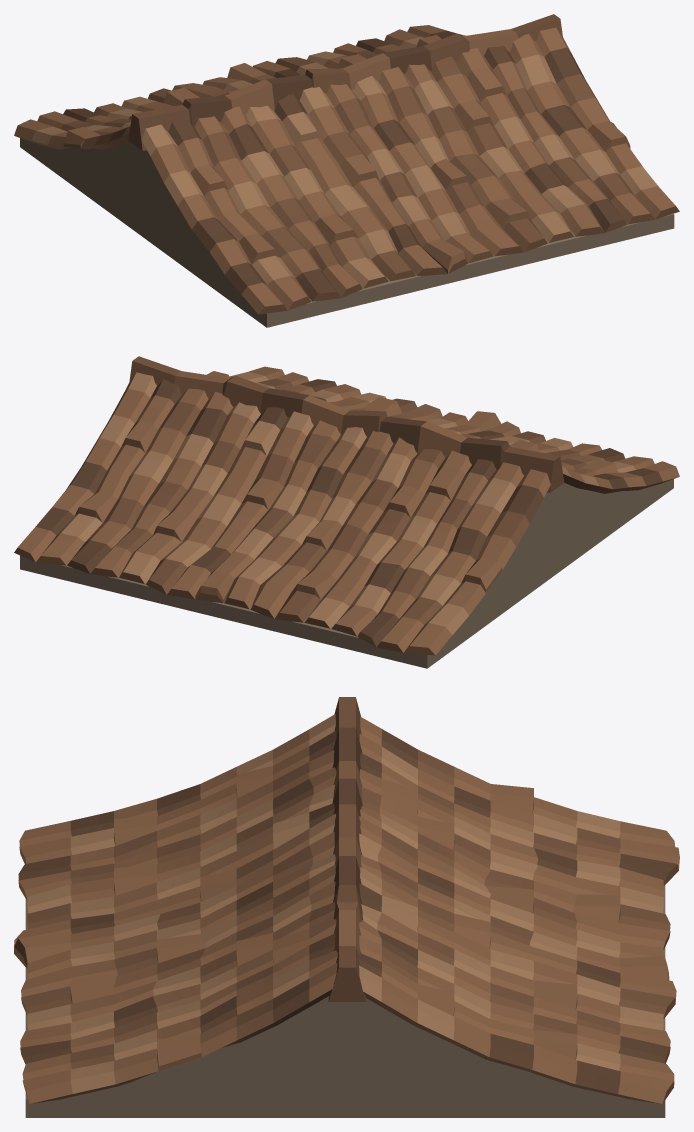
Rendered from SM_Bld_Cuba_Roof_01.glb.
The picture shows the model from 3 angles, top to bottom: view 1: azimuth 30°, elevation 25°; view 2: azimuth 150°, elevation 25°; view 3: azimuth 270°, elevation 25°; orthographic projection. The views are drawn at different scales.
Parts seen in each view (by area): view 1: SM_Bld_Cuba_Roof_01; view 2: SM_Bld_Cuba_Roof_01; view 3: SM_Bld_Cuba_Roof_01.
Boxes of the visible parts, left/top/right/bottom form: SM_Bld_Cuba_Roof_01: left=14, top=14, right=679, bottom=327; SM_Bld_Cuba_Roof_01: left=14, top=356, right=679, bottom=668; SM_Bld_Cuba_Roof_01: left=14, top=697, right=679, bottom=1117.
Size of the model in its own units: 0.0414 by 0.0117 by 0.0436.
